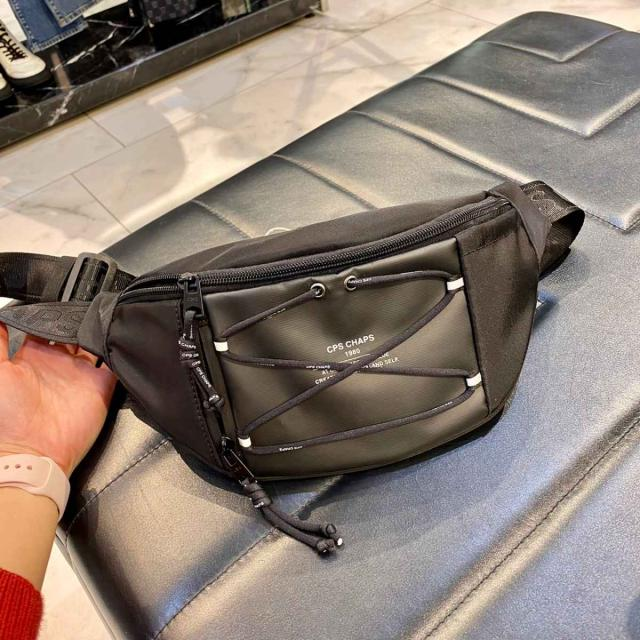Handbag: (75, 184, 577, 482)
